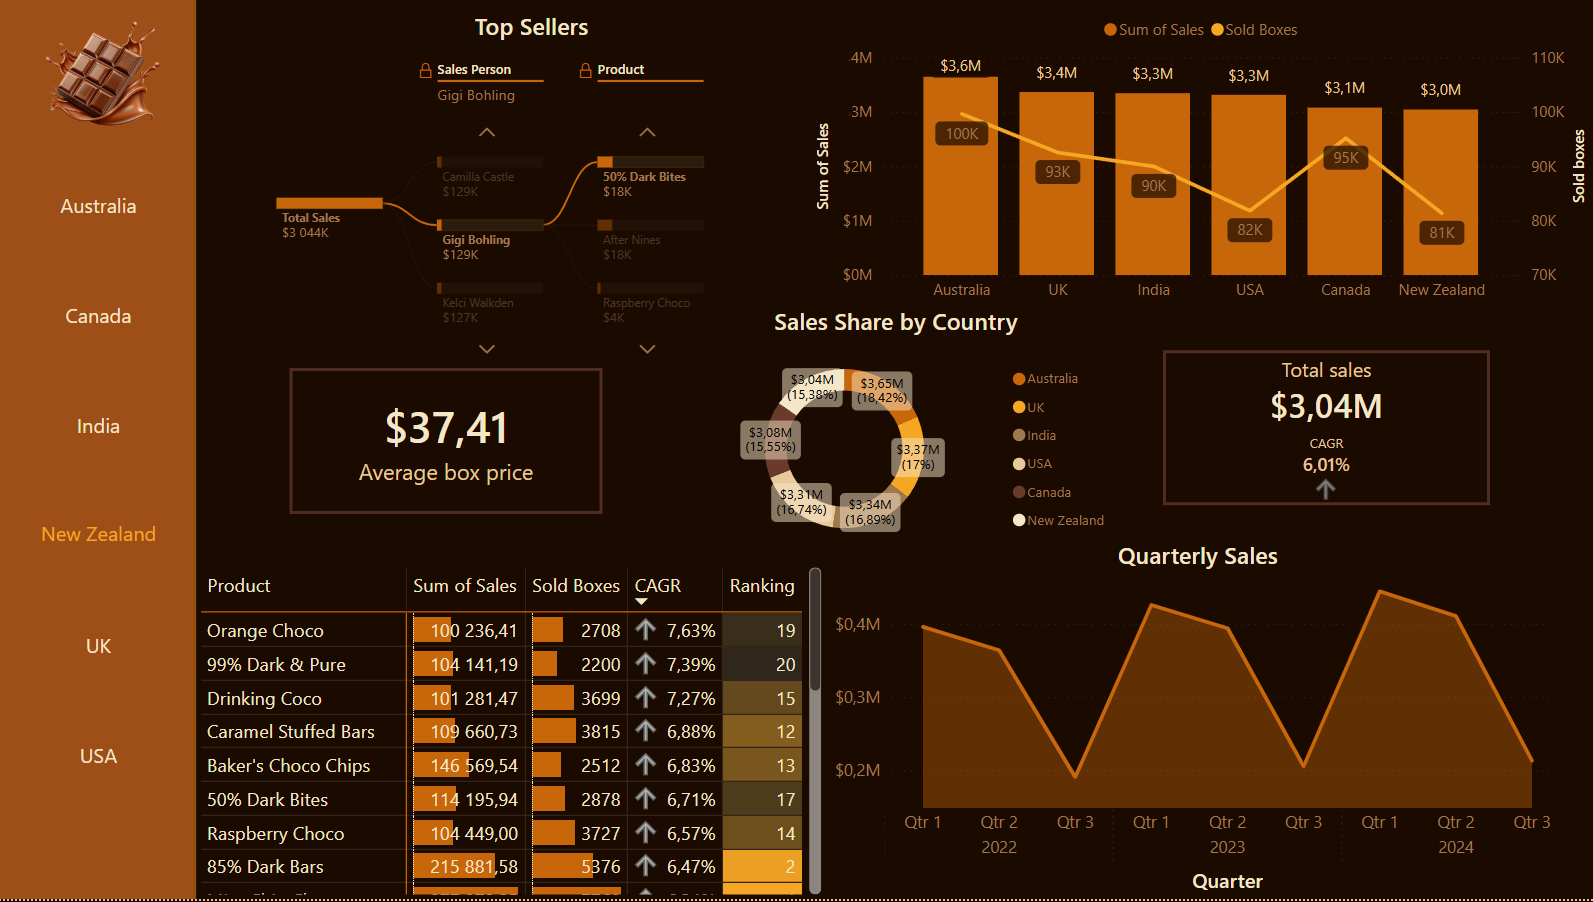

The dashboard page shown, as its layout file describes it:
{"tool":"powerbi","page":{"name":"Page 1","canvas":[1280,720],"ordinal":0},"visuals":[{"type":"shape","box":[0,0,157.3,720],"z":0},{"type":"cardVisual","fields":{"Data":["Sum(chocolate_sales.amount)","_measures.CAGR"]},"box":[924,273,277,140],"z":1000},{"type":"lineClusteredColumnComboChart","fields":{"Category":["chocolate_sales.country"],"Y2":["Sum(chocolate_sales.boxes_shipped)"],"Y":["Sum(chocolate_sales.amount)"]},"box":[649.1,5.5,630,245.5],"z":2000},{"type":"advancedSlicerVisual","fields":{"Values":["chocolate_sales.country"]},"box":[1.8,100,156.4,568.2],"z":3000},{"type":"cardVisual","fields":{"Data":["_measures.Average box price"]},"box":[222,284,272,139],"z":4000},{"type":"lineChart","title":"Quarterly Sales","fields":{"Y":["Sum(chocolate_sales.amount)"],"Category":["data_table.date.Variation.Date Hierarchy.Year","data_table.date.Variation.Date Hierarchy.Quarter"]},"box":[662.7,431.8,593.6,288.2],"z":5000},{"type":"pivotTable","fields":{"Rows":["chocolate_sales.product"],"Values":["_measures.total_sales","Sum(chocolate_sales.boxes_shipped)","_measures.CAGR","_measures.Rank"]},"box":[157.3,450,505.5,270.9],"z":6000},{"type":"donutChart","title":"Sales Share by Country","fields":{"Category":["chocolate_sales.country"],"Y":["Sum(chocolate_sales.amount)"]},"box":[537.3,245.5,361.8,204.5],"z":7000},{"type":"shape","box":[130.4,0,54.8,720.2],"z":8000},{"type":"image","box":[1.7,5.8,157,112.1],"z":9000},{"type":"decompositionTreeVisual","title":"Top Sellers","fields":{"Analyze":["_measures.total_sales"],"ExplainBy":["chocolate_sales.sales_person","chocolate_sales.product"]},"box":[167,9.1,519.2,299],"z":10000}]}

Visuals, with their boxes in screenshot pixels (x1, y1, x2, y2), scaled from the page's 1280x720 canvas onto the 1593x902 screenshot:
shape: bbox(0, 0, 196, 901)
cardVisual - Sum(chocolate_sales.amount) x _measures.CAGR: bbox(1150, 342, 1495, 517)
lineClusteredColumnComboChart - chocolate_sales.country x Sum(chocolate_sales.boxes_shipped): bbox(808, 7, 1592, 314)
advancedSlicerVisual - chocolate_sales.country: bbox(2, 125, 197, 837)
cardVisual - _measures.Average box price: bbox(276, 356, 615, 530)
"Quarterly Sales" lineChart: bbox(825, 541, 1564, 901)
pivotTable - chocolate_sales.product x _measures.total_sales: bbox(196, 564, 825, 901)
"Sales Share by Country" donutChart: bbox(669, 308, 1119, 564)
shape: bbox(162, 0, 230, 901)
image: bbox(2, 7, 198, 148)
"Top Sellers" decompositionTreeVisual: bbox(208, 11, 854, 386)
